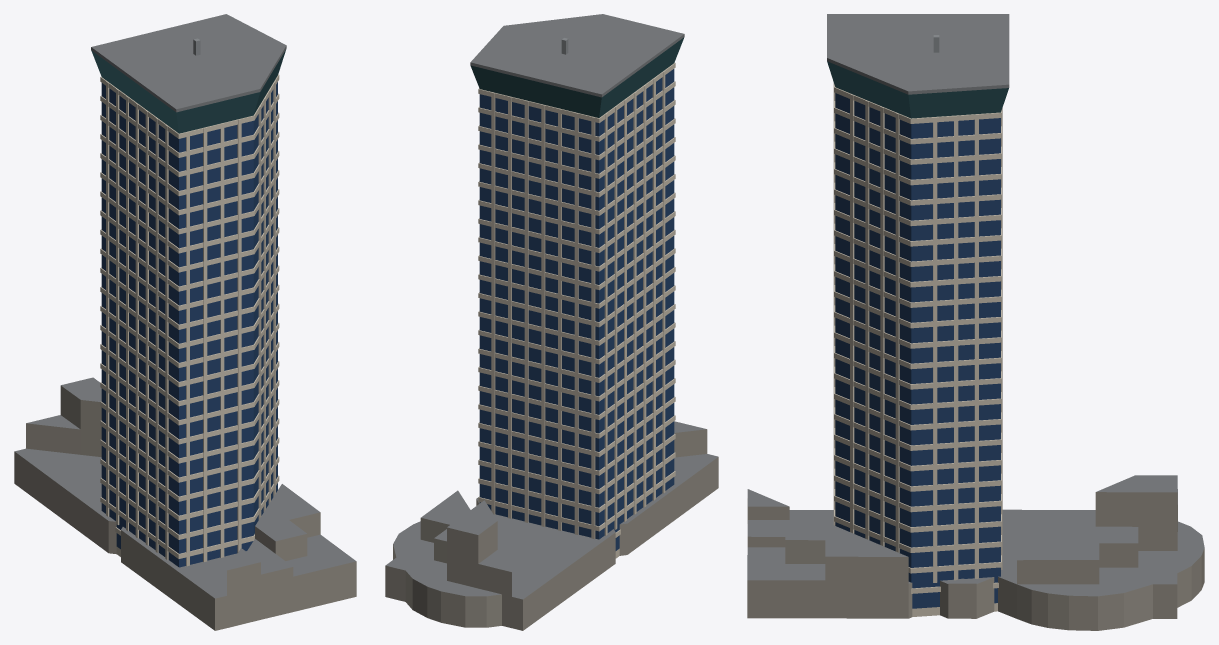
The model's file is wells_fargo_center.glb.
3 views of the same model, side by side, from view 1: azimuth 30°, elevation 25°; view 2: azimuth 150°, elevation 25°; view 3: azimuth 270°, elevation 25° (orthographic). The views are drawn at different scales.
Parts seen in each view (by area): view 1: Wells_Fargo_Center; view 2: Wells_Fargo_Center; view 3: Wells_Fargo_Center.
Part boxes in pixels (left/top/right/bottom): Wells_Fargo_Center: left=14, top=14, right=356, bottom=630; Wells_Fargo_Center: left=385, top=14, right=718, bottom=630; Wells_Fargo_Center: left=747, top=14, right=1204, bottom=630.
Bounding box in the file's own units: 44.98 × 131 × 99.41.
